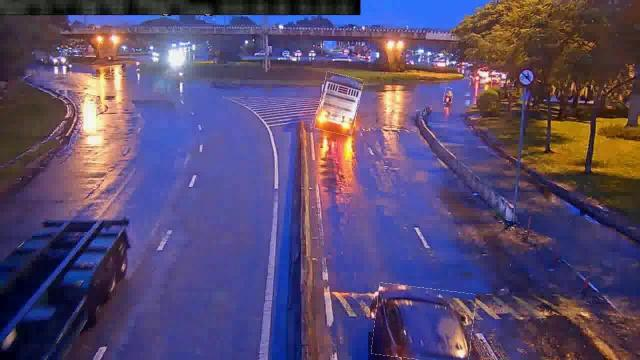Bike: (443, 88, 452, 104)
Car: (374, 285, 474, 359)
Truck: (317, 73, 361, 134)
